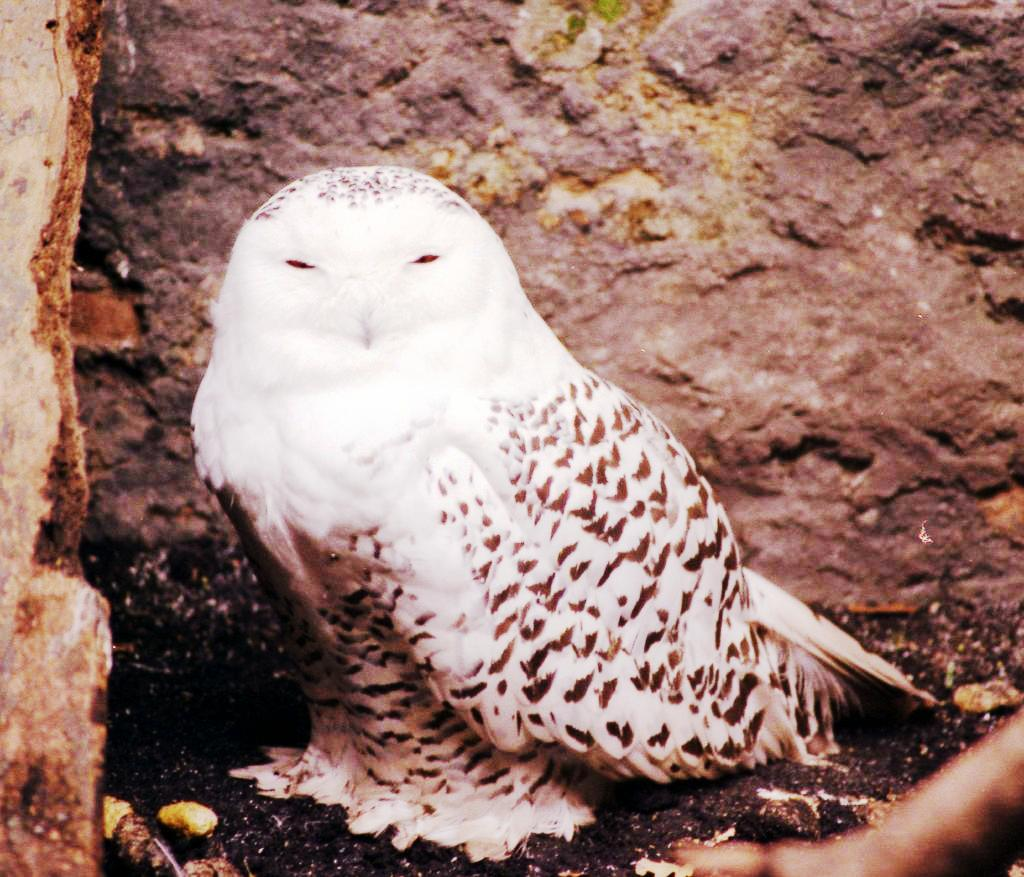Owl: (192, 165, 938, 873)
